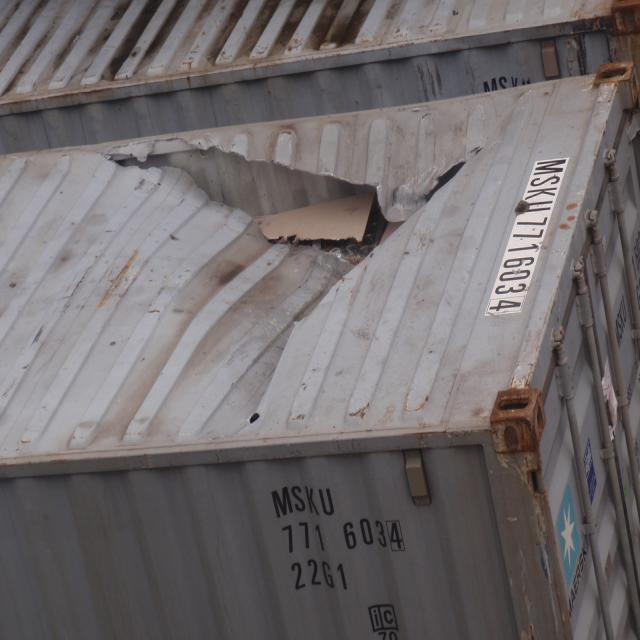dent: (232, 246, 365, 421)
